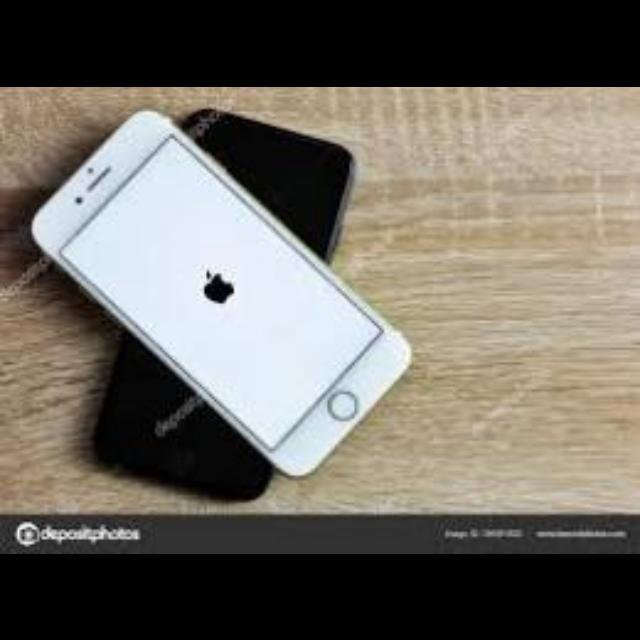Phone: (32, 108, 412, 472)
